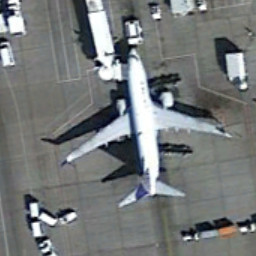Airplane: (46, 39, 244, 209)
